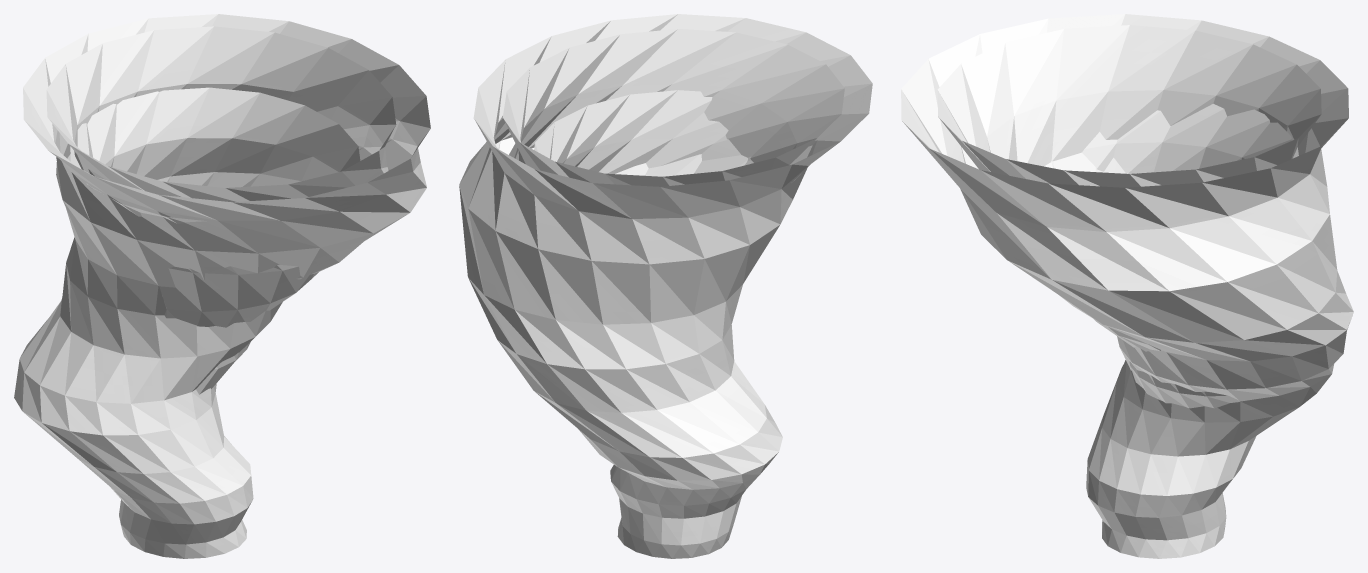
Rendered from proj_icestorm.fbx.
3 views of the same model, side by side, from view 1: azimuth 30°, elevation 25°; view 2: azimuth 150°, elevation 25°; view 3: azimuth 270°, elevation 25° (orthographic). The views are drawn at different scales.
Parts seen in each view (by area): view 1: tornado (×3); view 2: tornado (×3); view 3: tornado (×3).
Part boxes in pixels (<box>): tornado (×3): <box>14,14,430,558</box>; tornado (×3): <box>459,14,872,558</box>; tornado (×3): <box>901,14,1353,558</box>.
Bounding box in the file's own units: 2.66 × 3.03 × 2.81.
Materials: 1 (1 with a texture image).
